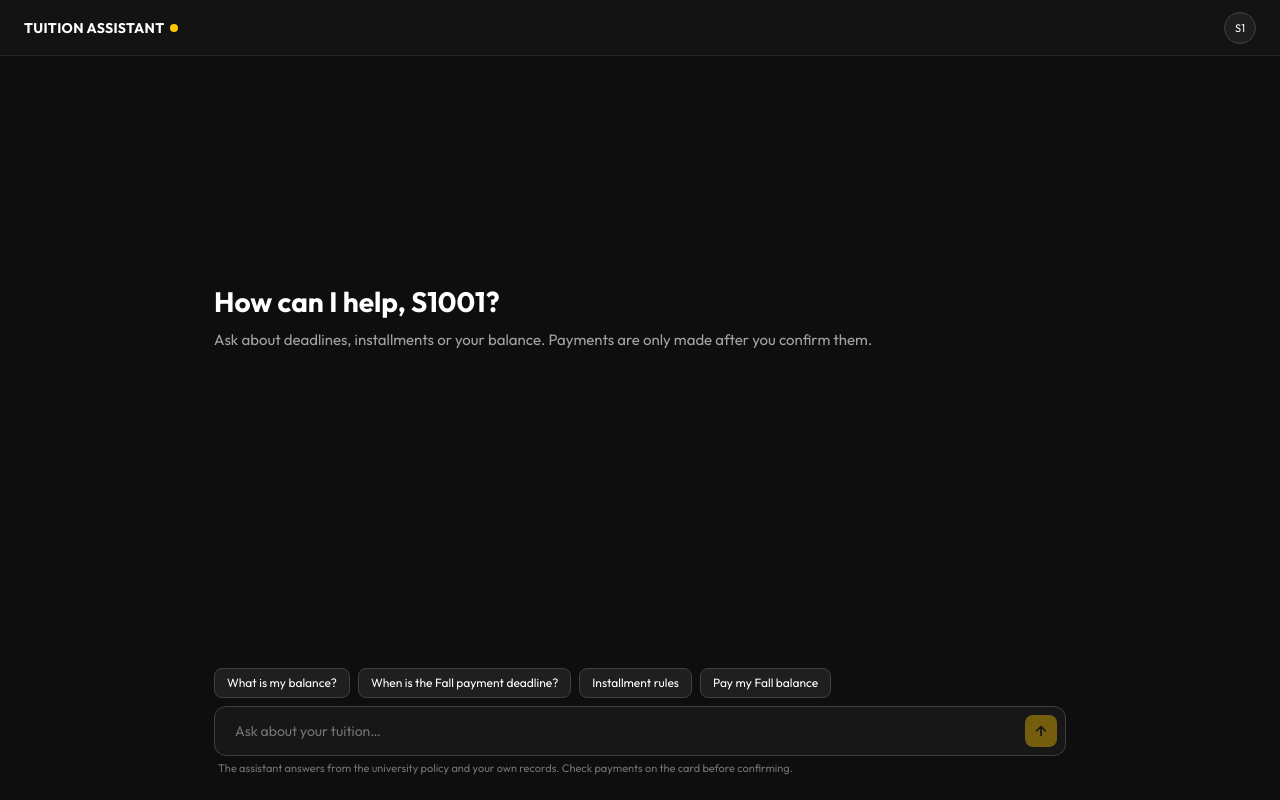
it: chat screen › cancels from the card's chip
Type "pay 500" into the text box named "Message".
click(624, 731); type("pay 500")  # box [235,715,1013,747]
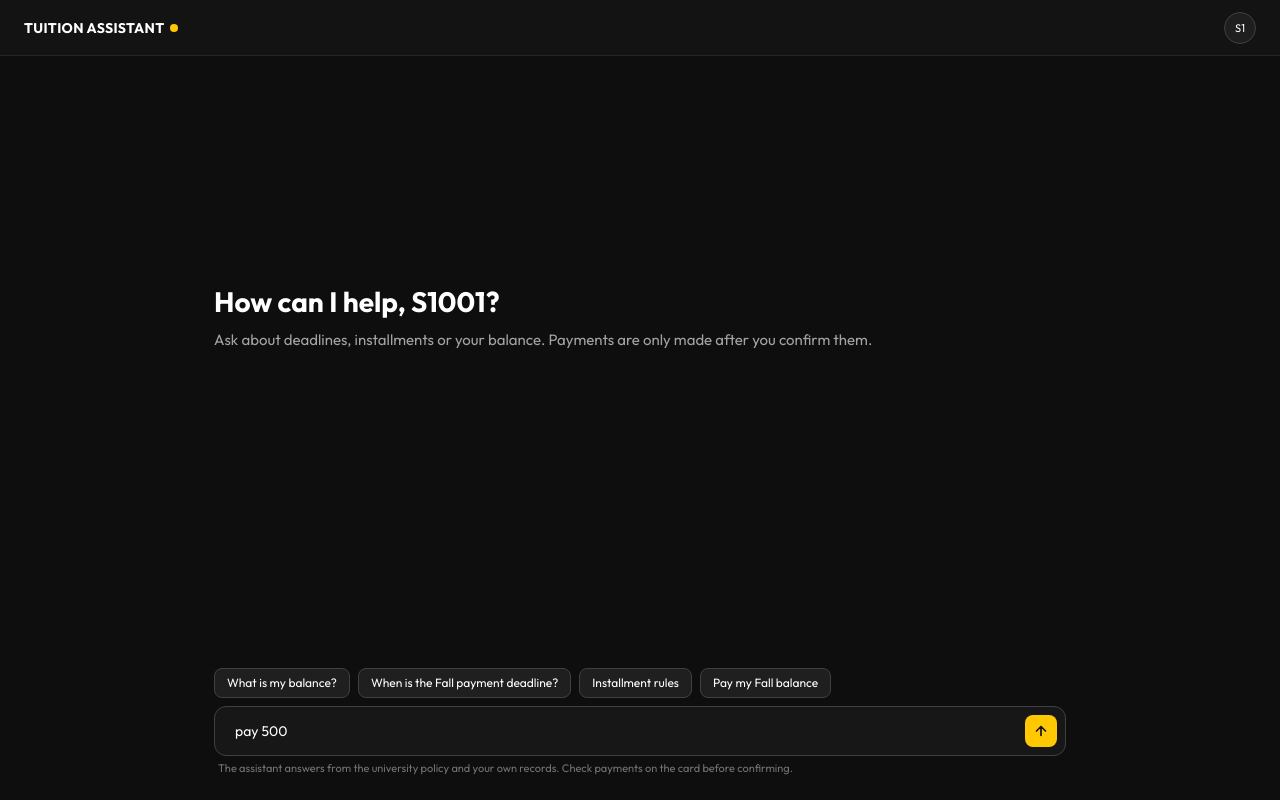
Press Enter in the text box named "Message", box [235,715,1013,747]
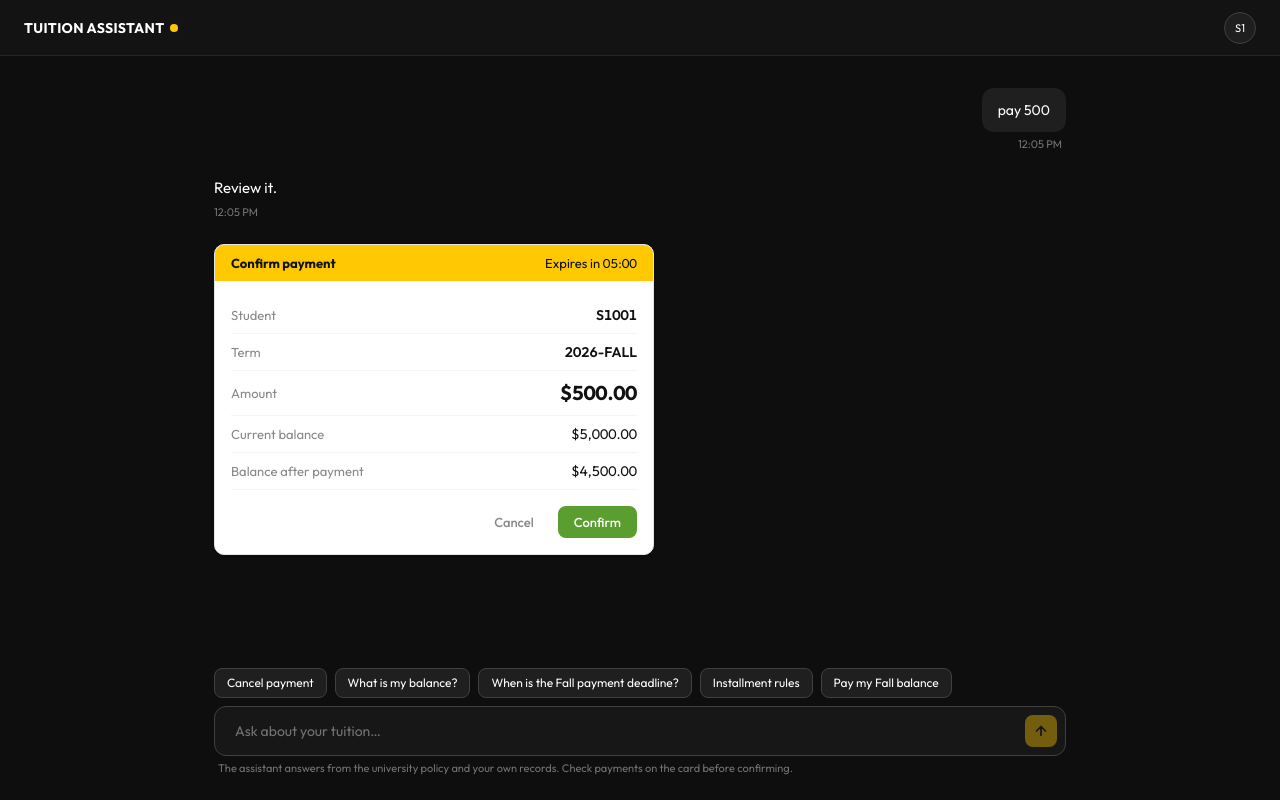
Now the element "Confirm payment" is shown, box [214,244,654,555]
Click the button "Cancel payment".
click(270, 683)  # box [214,668,327,698]
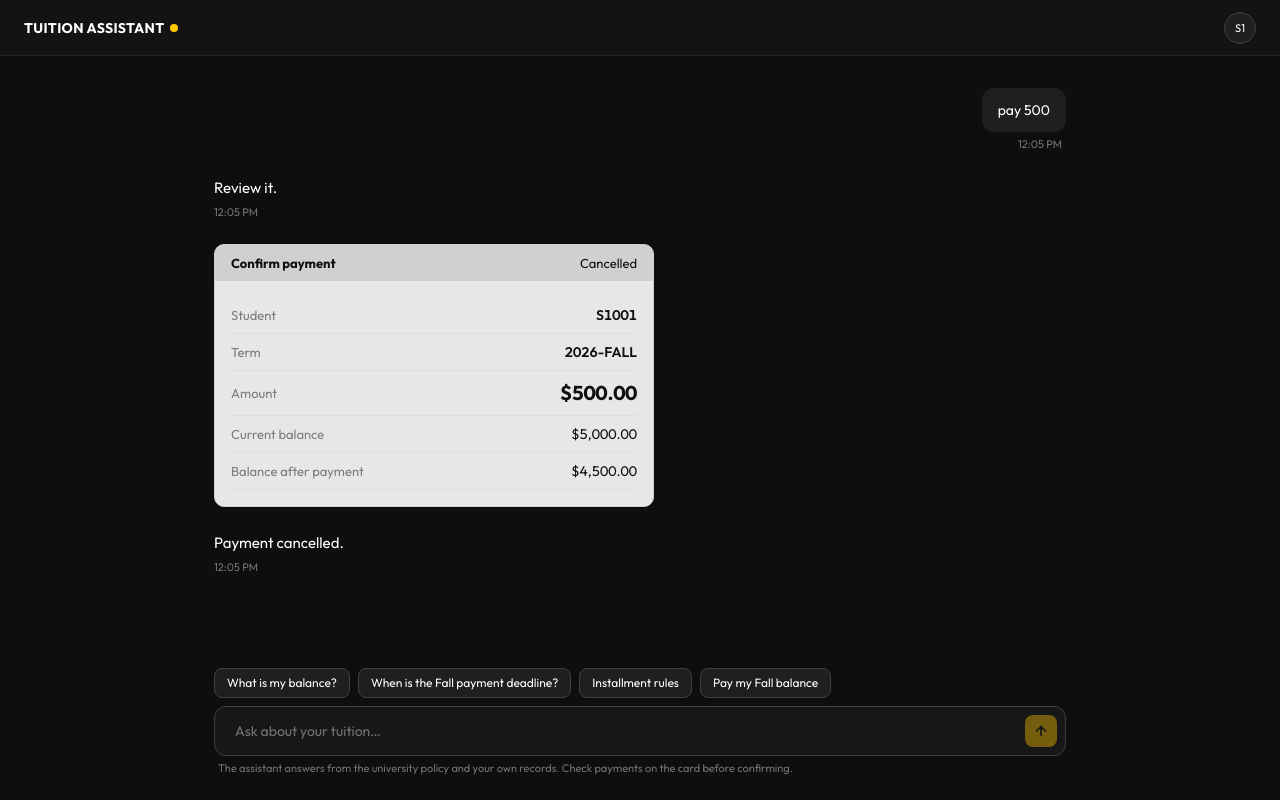
Now the text "Payment cancelled." is shown, box [214,533,344,552]
Now the text "Cancelled" is shown, box [580,253,637,273]
Now the button "Cancel payment" is gone
